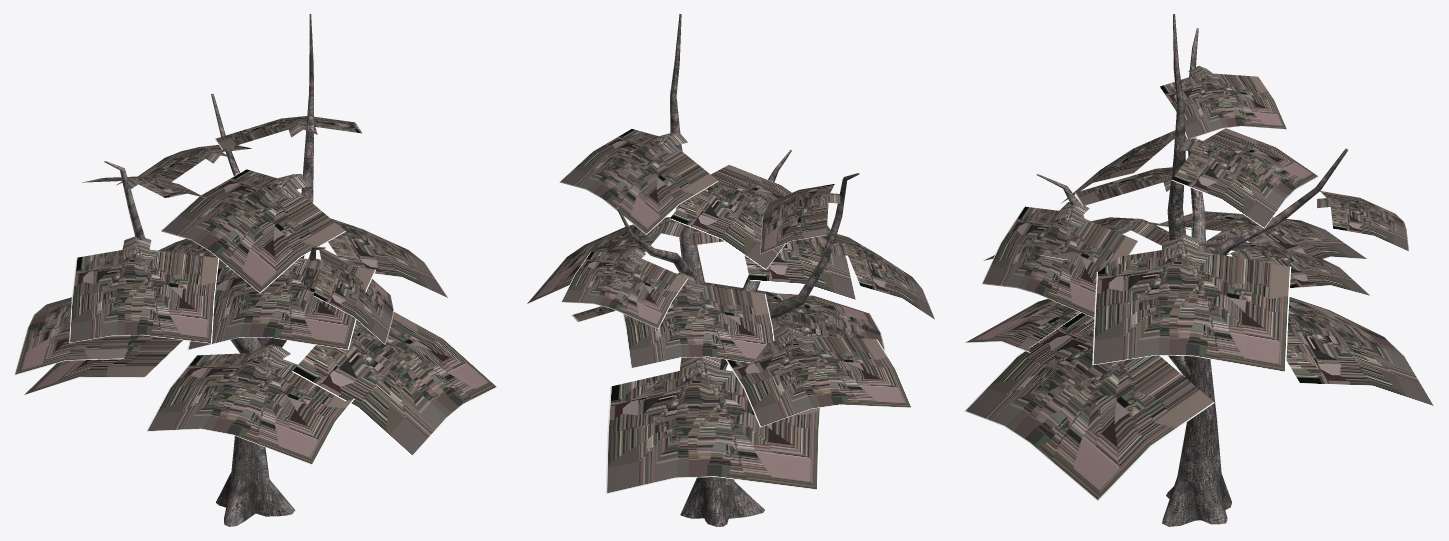
Rendered from AlphaDeadTree.gltf.
3 renders of one model, left to right at view 1: azimuth 30°, elevation 25°; view 2: azimuth 150°, elevation 25°; view 3: azimuth 270°, elevation 25°, orthographic. The views are drawn at different scales.
Parts seen in each view (by area): view 1: Ast_Dead, Foliage02; view 2: Ast_Dead, Foliage02; view 3: Ast_Dead, Foliage02.
Part boxes in pixels (x1,y1,x2,y2): Ast_Dead: (14, 116, 497, 464); Foliage02: (104, 14, 325, 526); Ast_Dead: (527, 128, 935, 493); Foliage02: (616, 14, 859, 526); Ast_Dead: (964, 66, 1434, 501); Foliage02: (1036, 14, 1348, 526).
Bounding box in the file's own units: 9.65 × 10.8 × 8.83.
2 materials, 2 textured.
